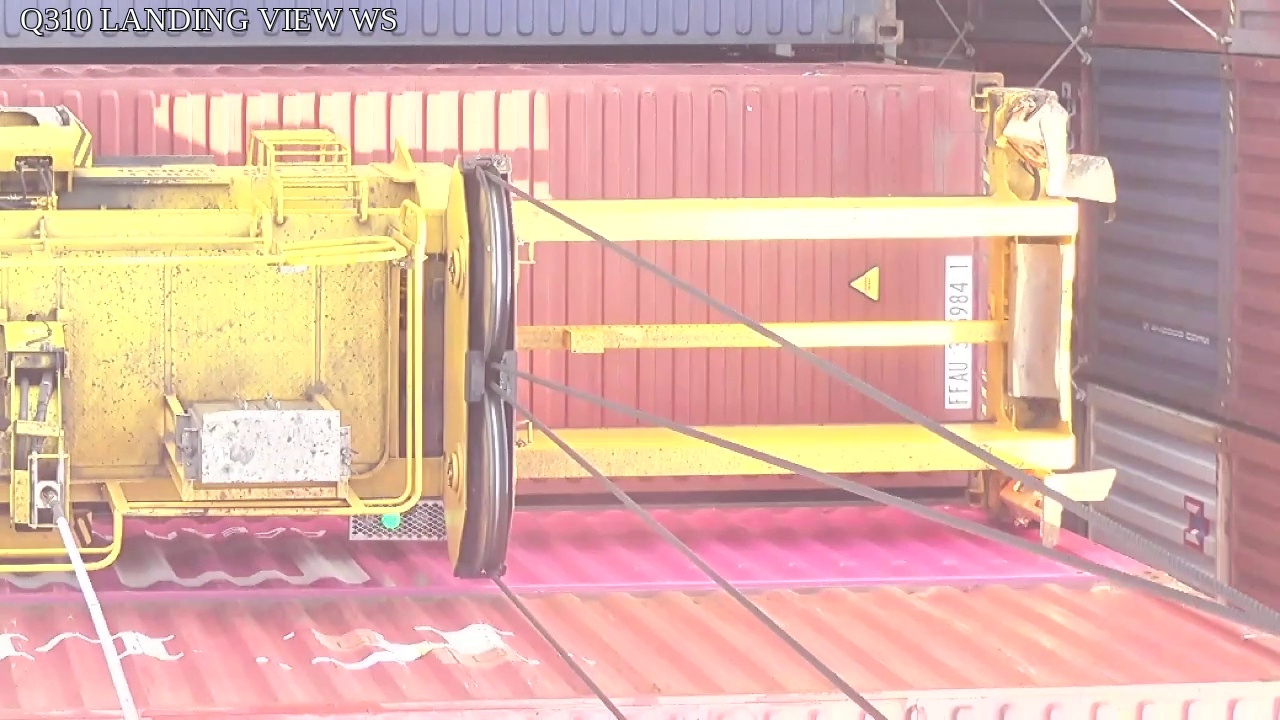right: (440, 154, 515, 578)
